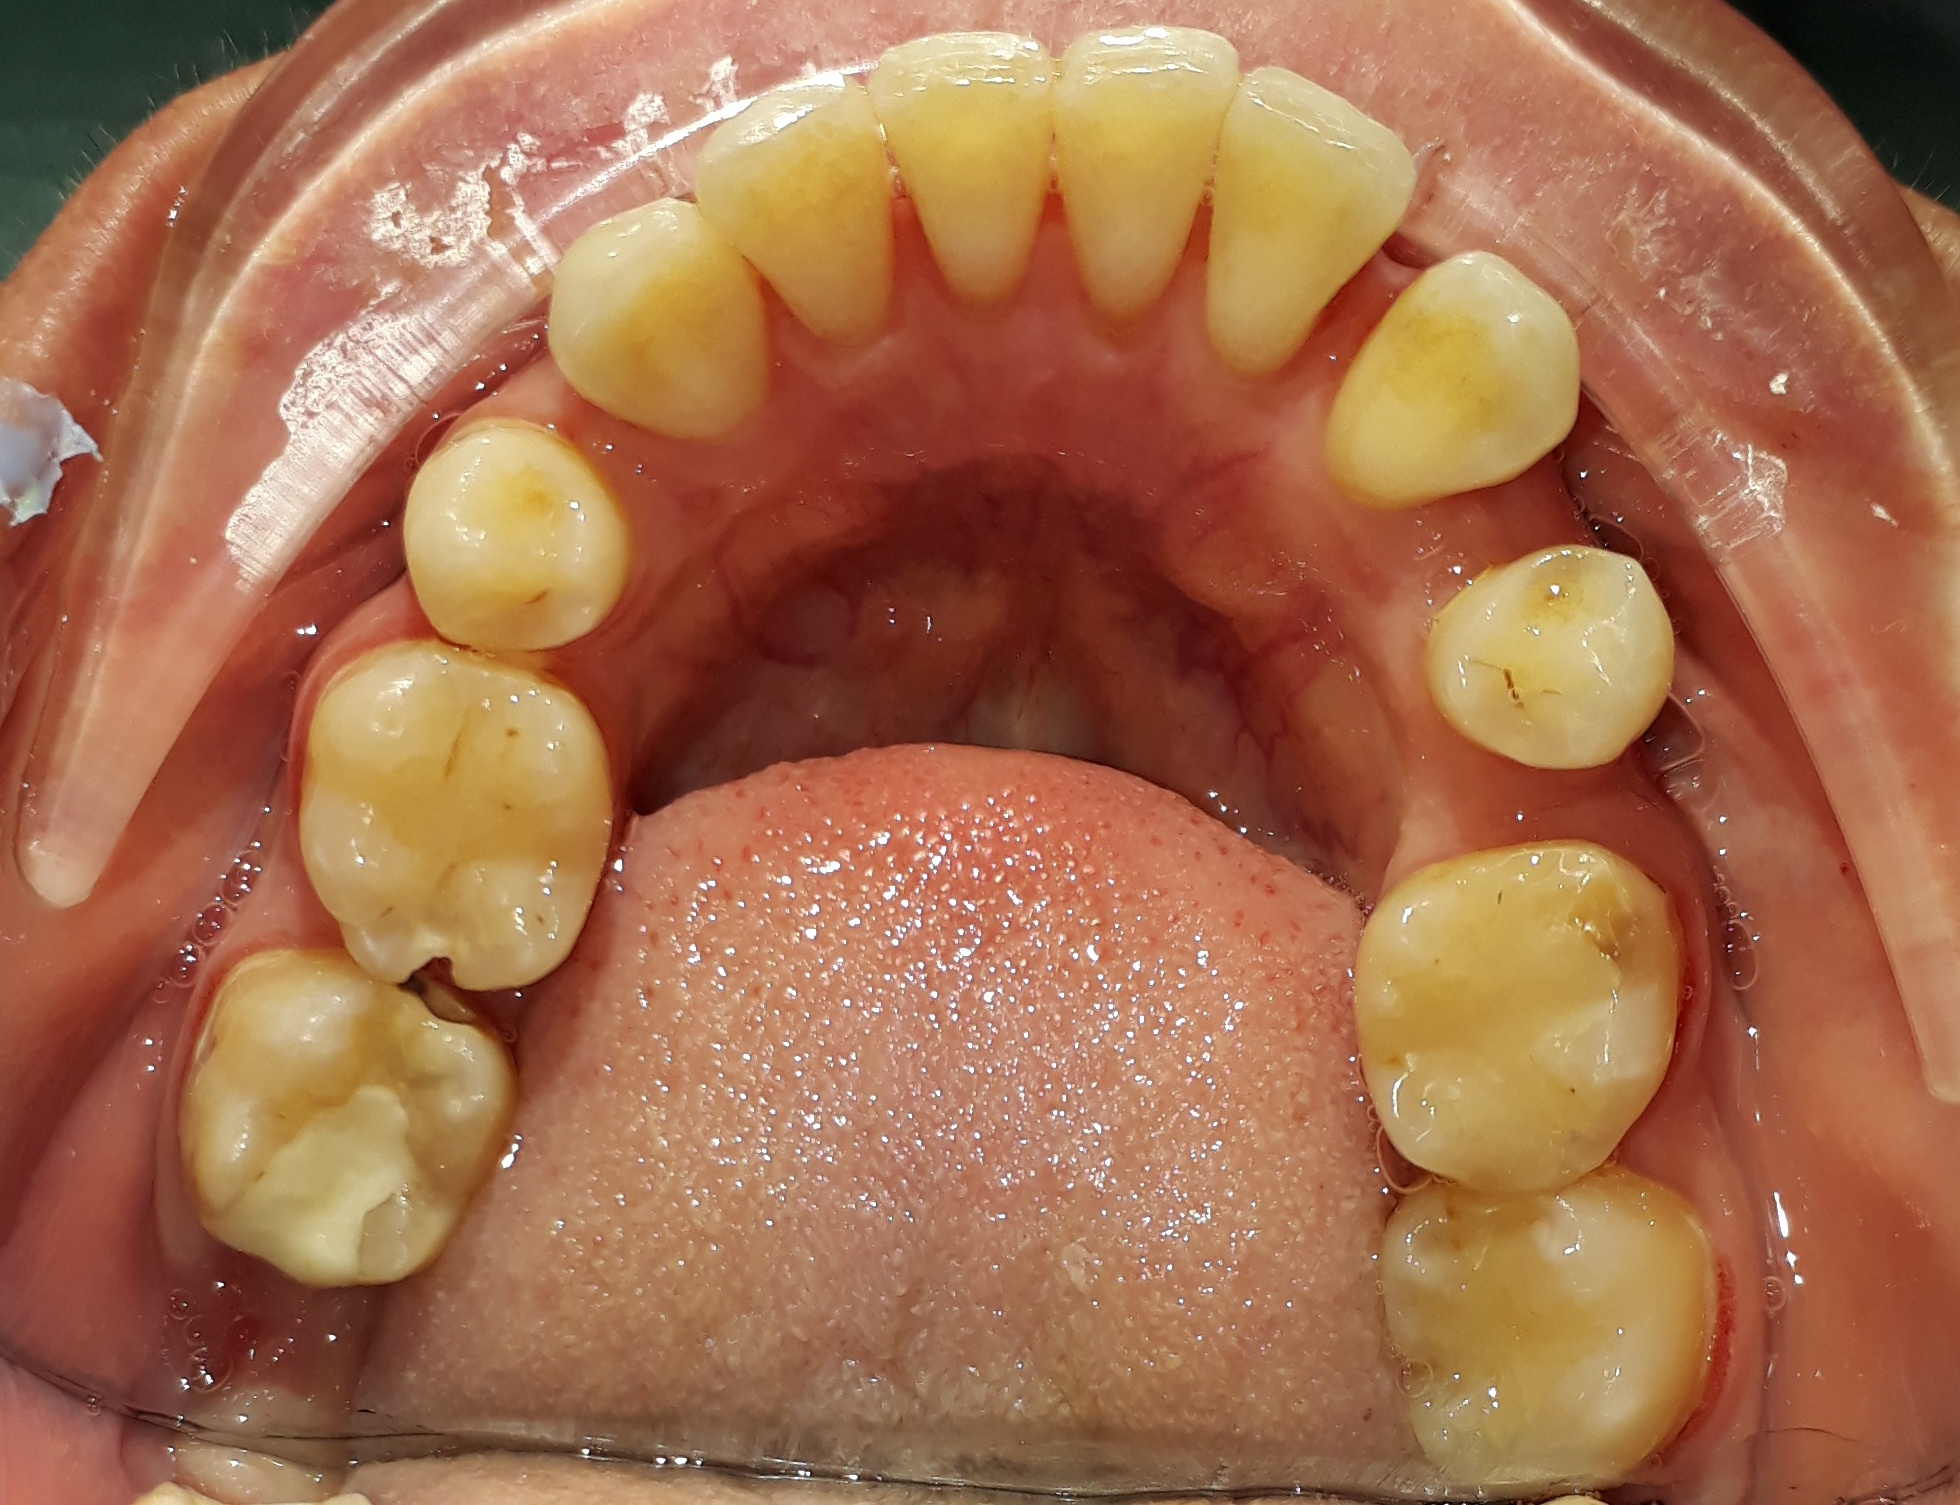1st Molar: (193, 953, 504, 1292), (1374, 1190, 1723, 1489)
1st Premolar: (1424, 537, 1671, 771), (397, 424, 639, 650)
2nd Premolar: (1356, 836, 1683, 1187), (296, 648, 610, 986)
Canine: (1331, 243, 1589, 507), (545, 194, 778, 439)
Central Incisor: (876, 25, 1057, 326), (1061, 22, 1236, 326)
Lateral Incisor: (1201, 65, 1415, 360), (700, 65, 899, 346)
